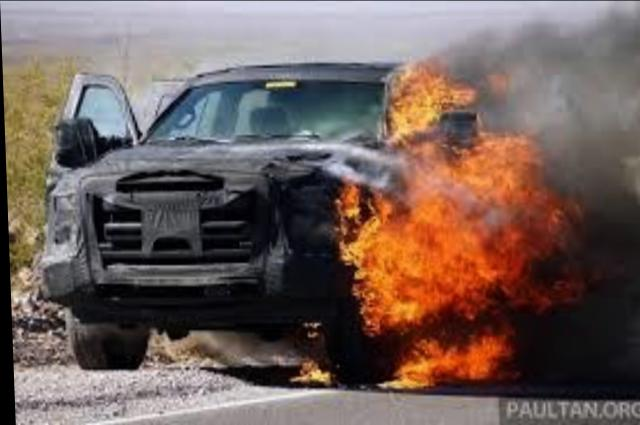fire: (337, 58, 593, 399)
